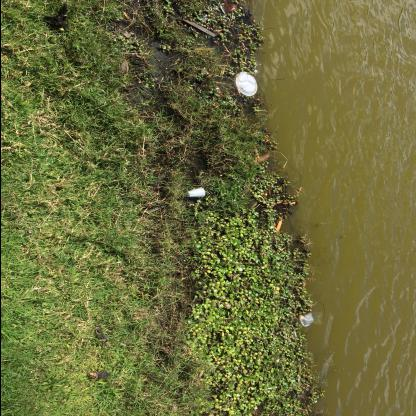karton: (185, 187, 204, 197)
kopuk: (234, 72, 256, 96)
plastik: (298, 312, 313, 326)
